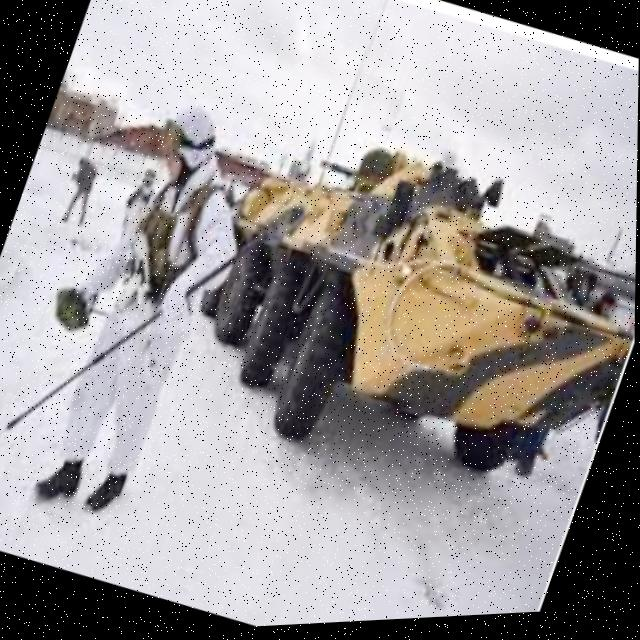MIL_APC: (154, 96, 639, 555)
